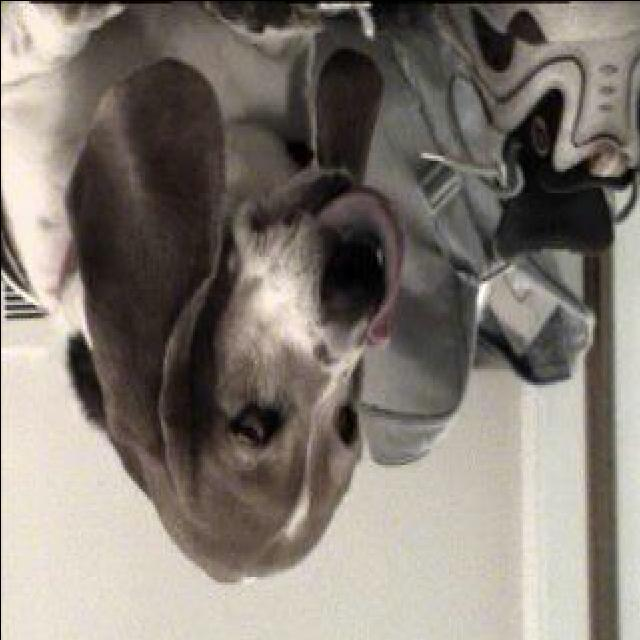basset: (0, 5, 406, 587)
